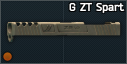Glock ZEV Tech Hex Spartan pistol slide: (0, 0, 127, 64)
